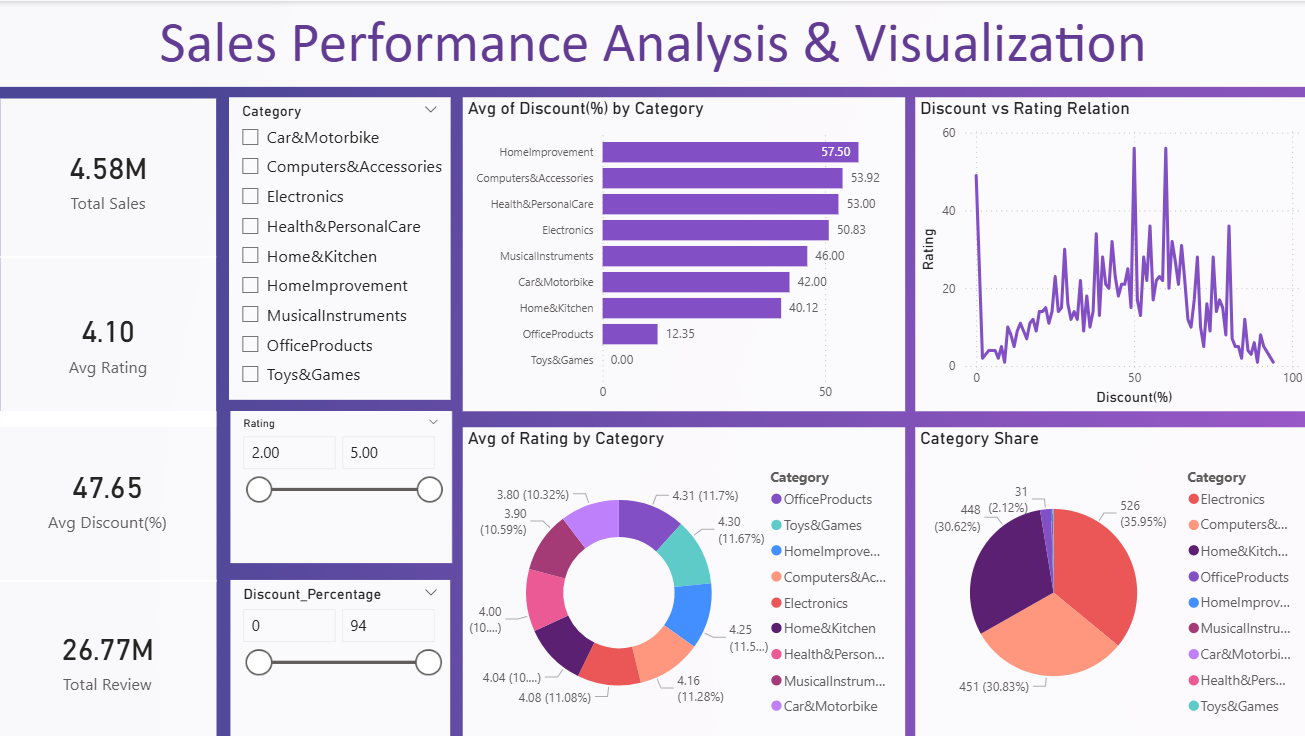

This screenshot's page, from the dashboard's own definition file:
{"tool":"powerbi","page":{"name":"Page 1","canvas":[1280,720],"ordinal":0},"visuals":[{"type":"card","title":"Total Sales","fields":{"Values":["Sum(cleaned_amazon.discounted_price)"]},"box":[1.3,94.9,211.4,155.7],"z":0},{"type":"card","fields":{"Values":["cleaned_amazon.Avg_rating"]},"box":[1.3,249.4,211.4,167.1],"z":1000},{"type":"card","fields":{"Values":["cleaned_amazon.Avg_Discount%"]},"box":[0,401.1,212.8,167.5],"z":2000},{"type":"card","fields":{"Values":["cleaned_amazon.Total Review"]},"box":[0,565.8,212.7,154.4],"z":3000},{"type":"textbox","box":[0,0,1280,83.8],"z":4000},{"type":"slicer","fields":{"Values":["cleaned_amazon.main_category"]},"box":[225,94.2,216.4,295.9],"z":5000},{"type":"slicer","fields":{"Values":["cleaned_amazon.rating"]},"box":[226.2,401.1,216.4,149.2],"z":6000},{"type":"slicer","fields":{"Values":["cleaned_amazon.discount_percentage"]},"box":[226.4,566.7,215.4,153.7],"z":7000},{"type":"clusteredBarChart","title":"Avg of Discount(%) by Category","fields":{"Category":["cleaned_amazon.main_category"],"Y":["Avg(cleaned_amazon.discount_percentage)"]},"box":[453.7,94.2,432.9,306.9],"z":8000},{"type":"donutChart","title":"Avg of Rating by Category","fields":{"Category":["cleaned_amazon.main_category"],"Y":["Avg(cleaned_amazon.rating)"]},"box":[453.7,417,432.9,303.3],"z":9000},{"type":"lineChart","title":"Discount vs Rating Relation ","fields":{"Y":["CountNonNull(cleaned_amazon.rating)"],"Category":["cleaned_amazon.discount_percentage"]},"box":[896.3,94.2,384,306.9],"z":10000},{"type":"pieChart","title":"Category Share","fields":{"Category":["cleaned_amazon.main_category"],"Y":["CountNonNull(cleaned_amazon.product_name)"]},"box":[896,417,384,303],"z":11000}]}

Visuals, with their boxes in screenshot pixels (x1, y1, x2, y2), scaled from the page's 1280x720 canvas onto the 1305x736 screenshot:
"Total Sales" card: [x1=1, y1=97, x2=217, y2=256]
card - cleaned_amazon.Avg_rating: [x1=1, y1=255, x2=217, y2=426]
card - cleaned_amazon.Avg_Discount%: [x1=0, y1=410, x2=217, y2=581]
card - cleaned_amazon.Total Review: [x1=0, y1=578, x2=217, y2=735]
textbox: [x1=0, y1=0, x2=1304, y2=86]
slicer - cleaned_amazon.main_category: [x1=229, y1=96, x2=450, y2=399]
slicer - cleaned_amazon.rating: [x1=231, y1=410, x2=451, y2=563]
slicer - cleaned_amazon.discount_percentage: [x1=231, y1=579, x2=450, y2=735]
"Avg of Discount(%) by Category" clusteredBarChart: [x1=463, y1=96, x2=904, y2=410]
"Avg of Rating by Category" donutChart: [x1=463, y1=426, x2=904, y2=735]
"Discount vs Rating Relation " lineChart: [x1=914, y1=96, x2=1304, y2=410]
"Category Share" pieChart: [x1=914, y1=426, x2=1304, y2=735]
